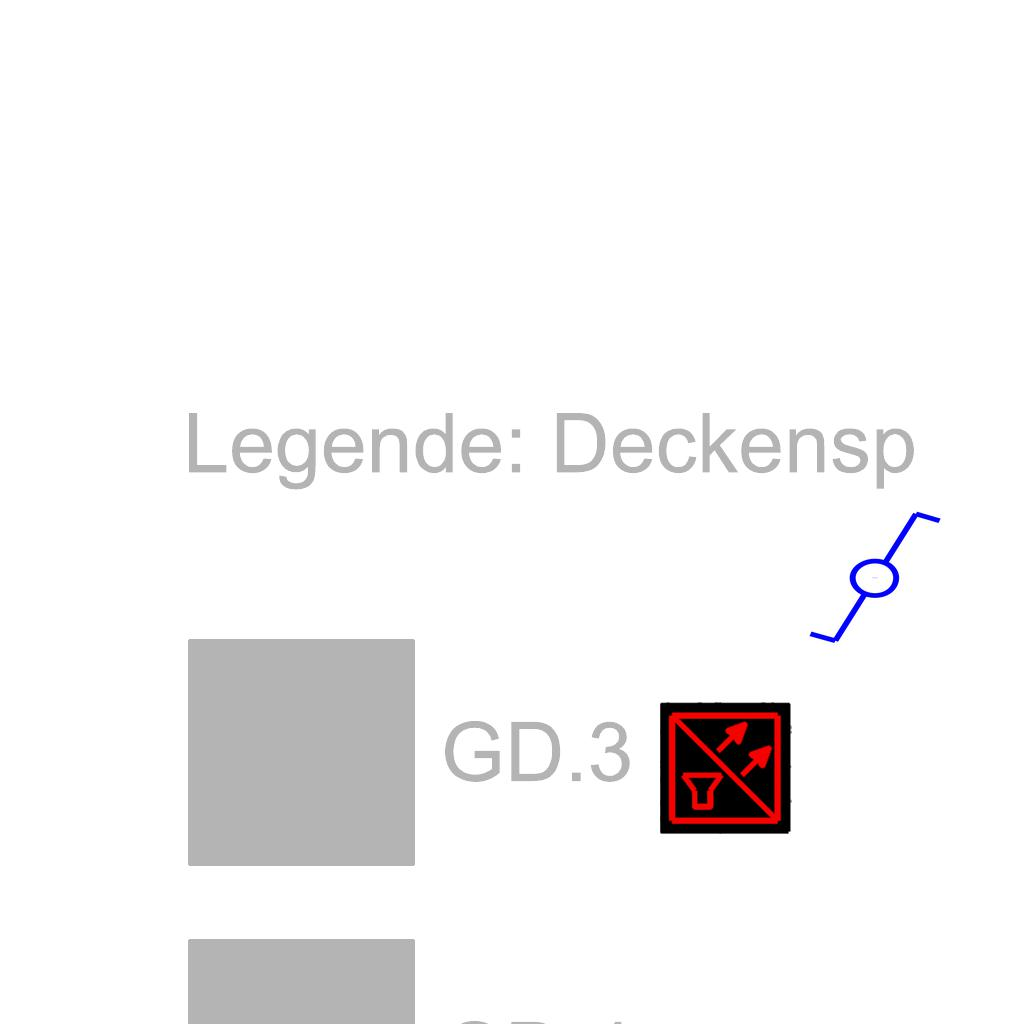OKW_Multisensormelder_(Kombination_optischer_Rauch-Kahlenmonoxid_Waerme-Melder): (660, 702, 792, 834)
Wechselschalter: (788, 504, 945, 648)
